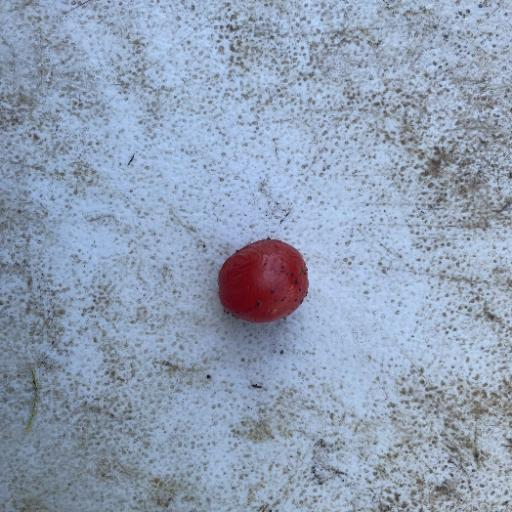Waste: (215, 236, 310, 324)
